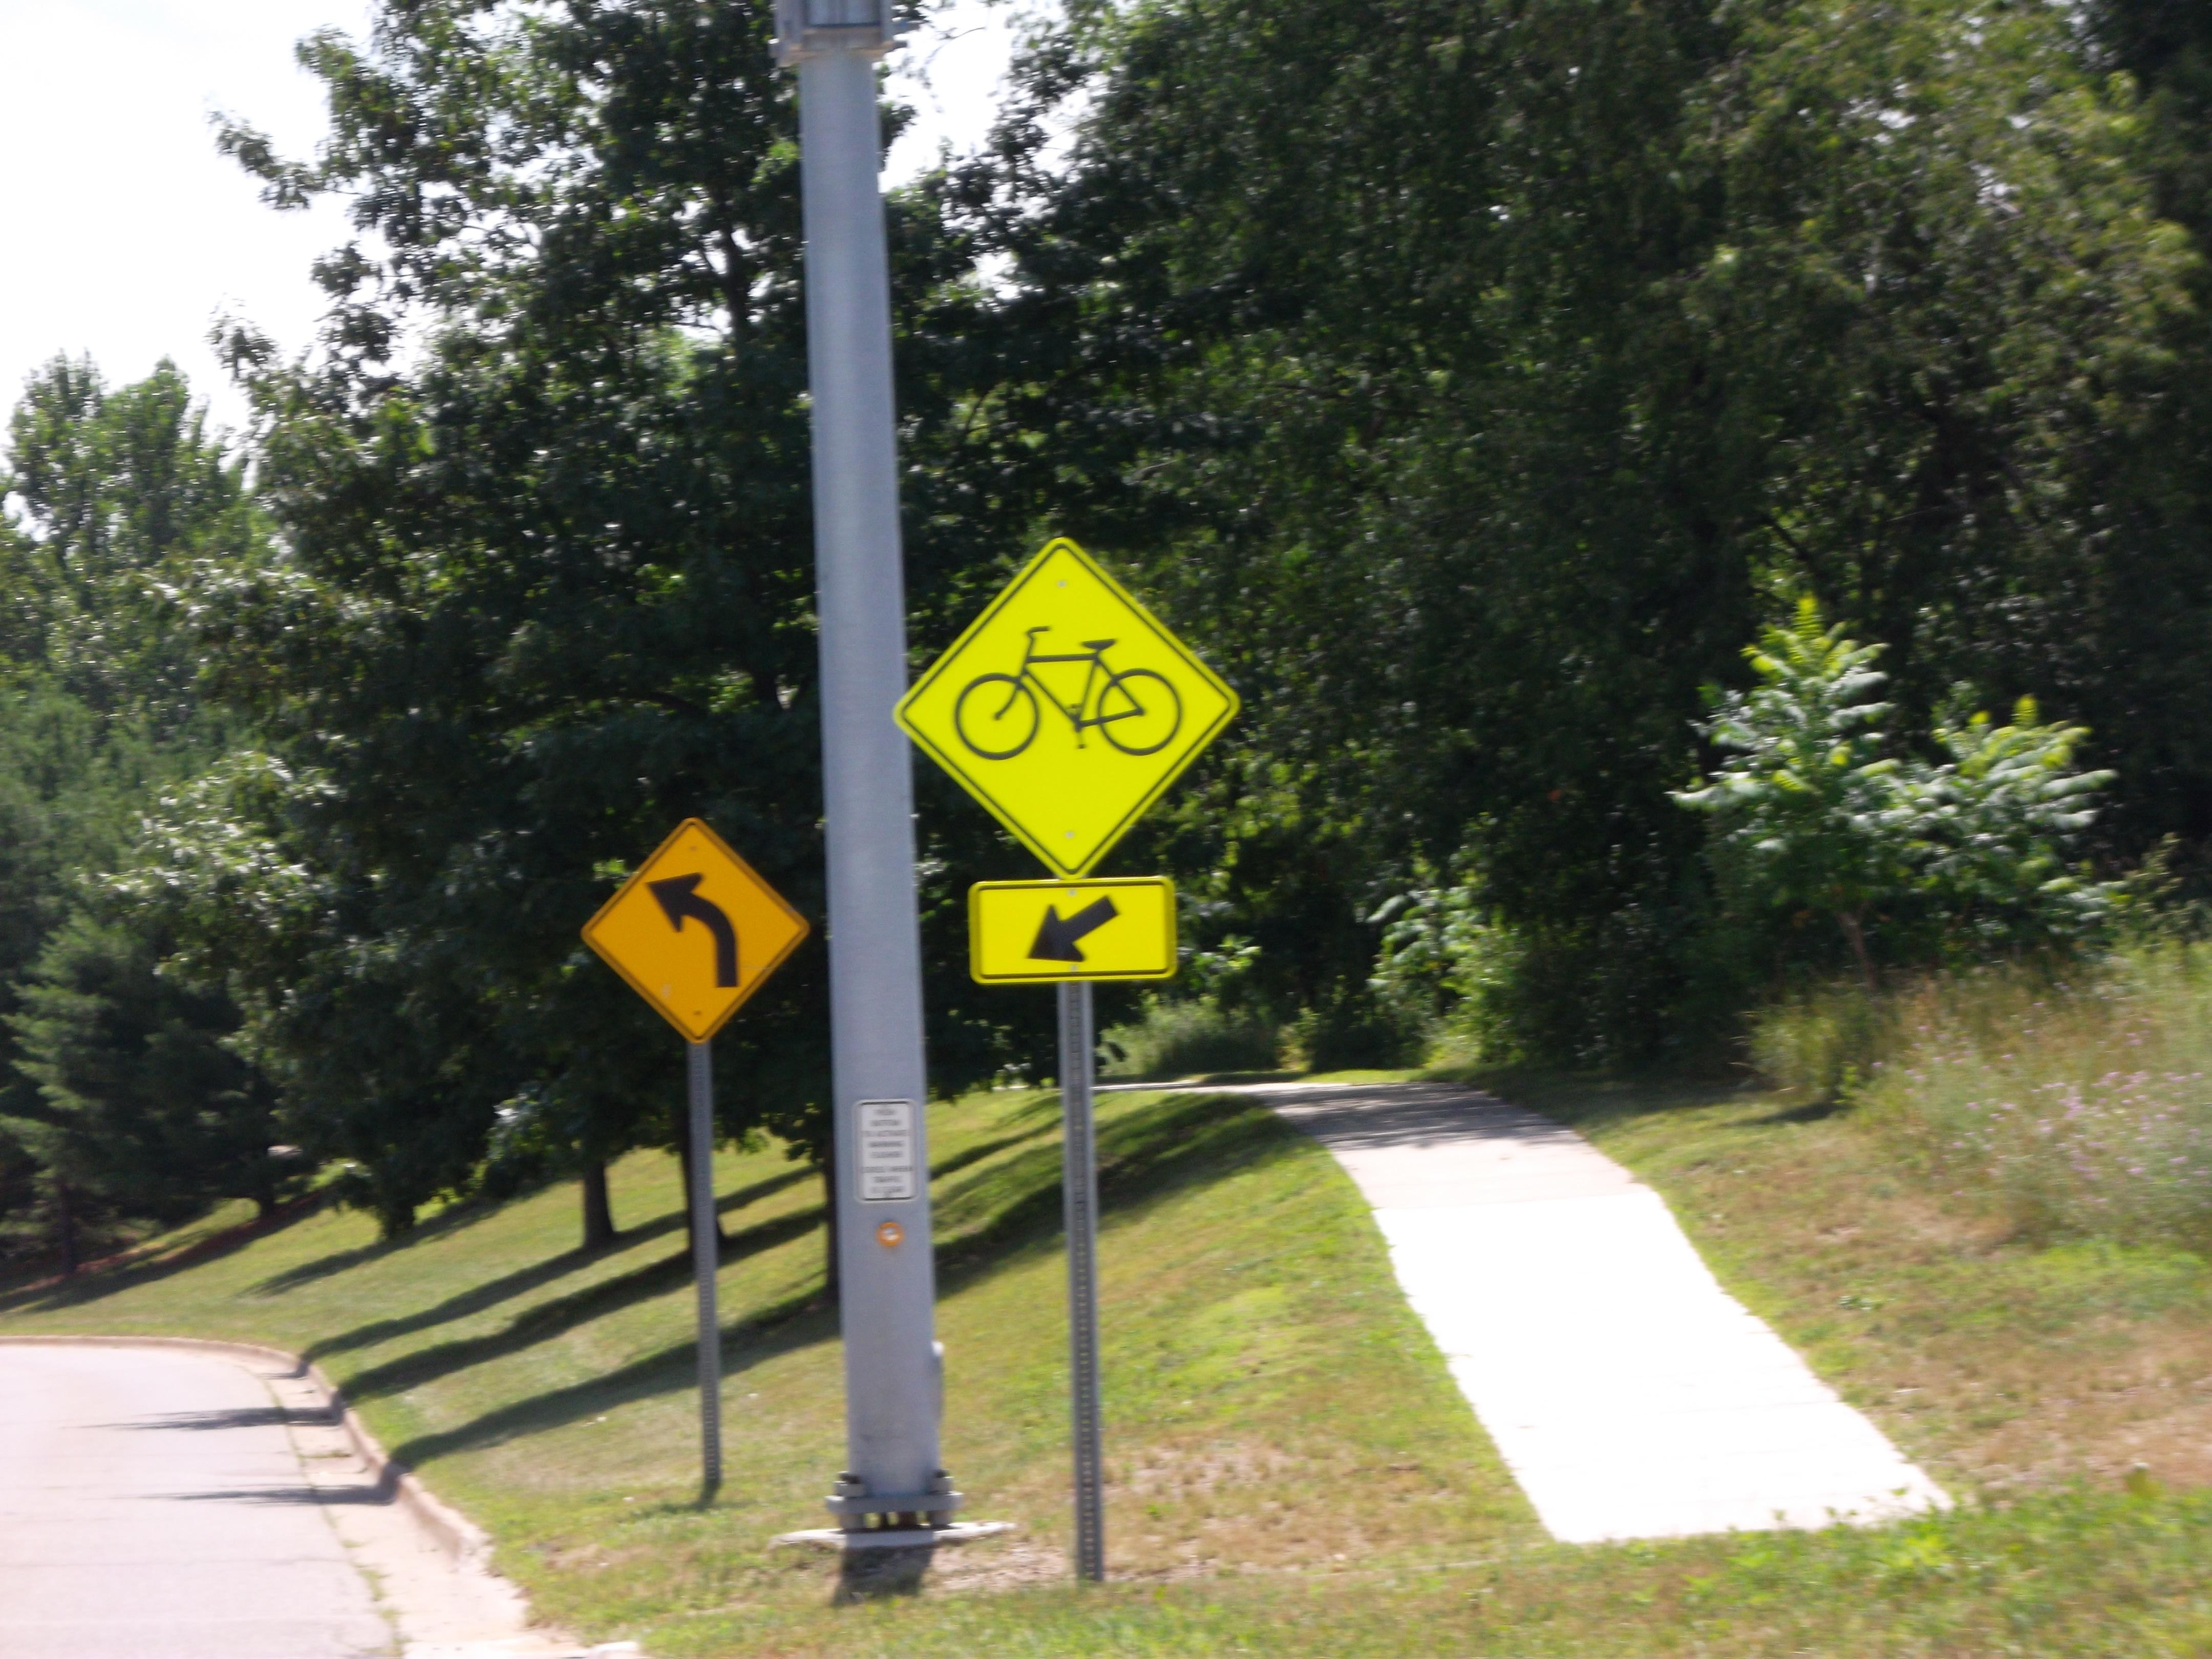warning: (881, 537, 1242, 878), (580, 823, 812, 1046), (961, 875, 1184, 990)
